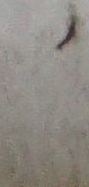Exposed reinforcement: (55, 19, 77, 50)
